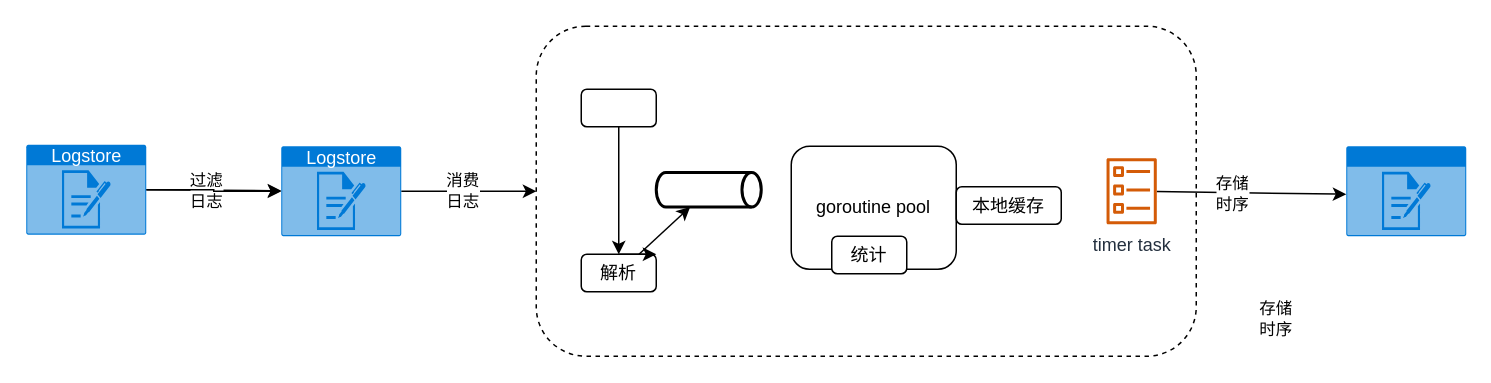
This 1491x383 diagram has some shape labels left out. The shapes that lost their labels are listed below. From the top down, each one's centre as x and y in pixels, then its label:
[618,107]: 校验
[708,189]: channel
[1406,191]: Metricstore
